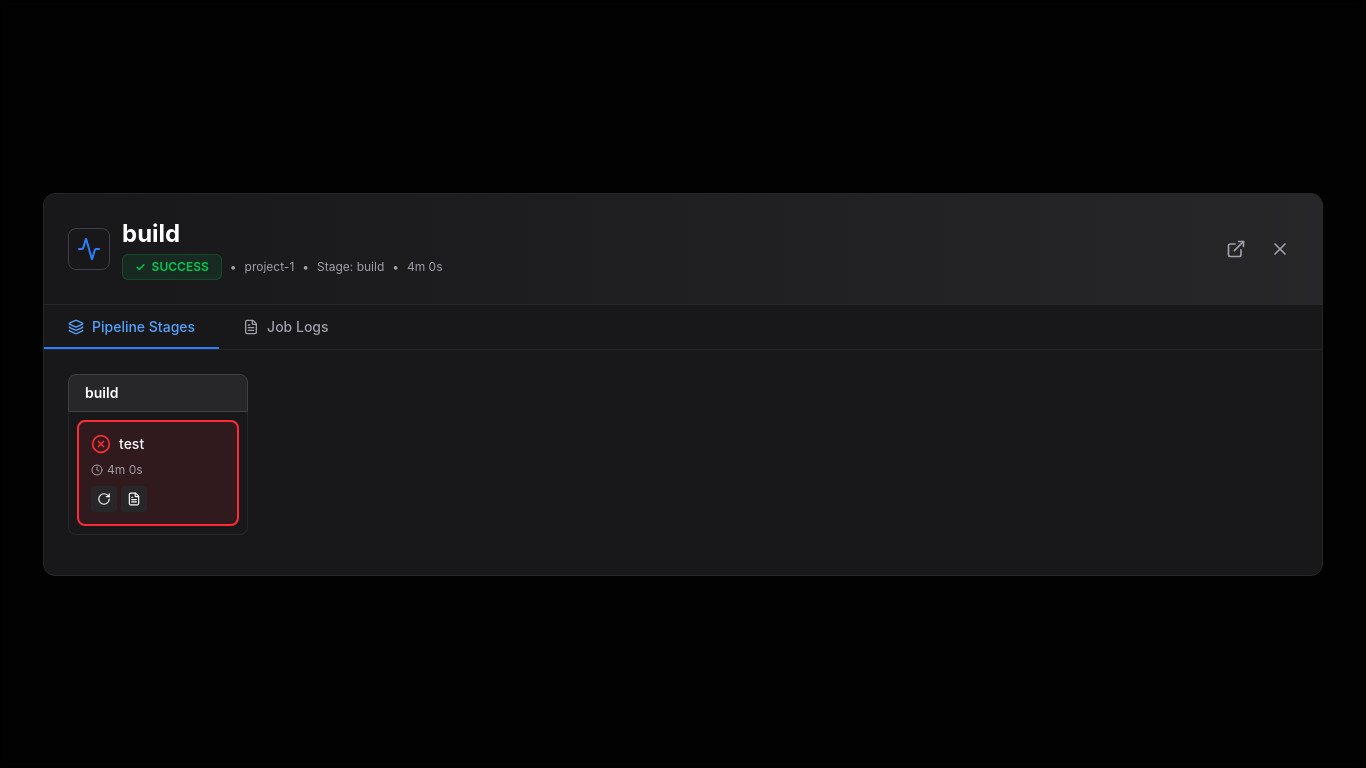
JobDetailsModal › reloads the pipeline stages a second after retrying a job
Click the button titled "Retry job": (104, 498) left=91, top=486, right=117, bottom=512
Wait 1000 ms
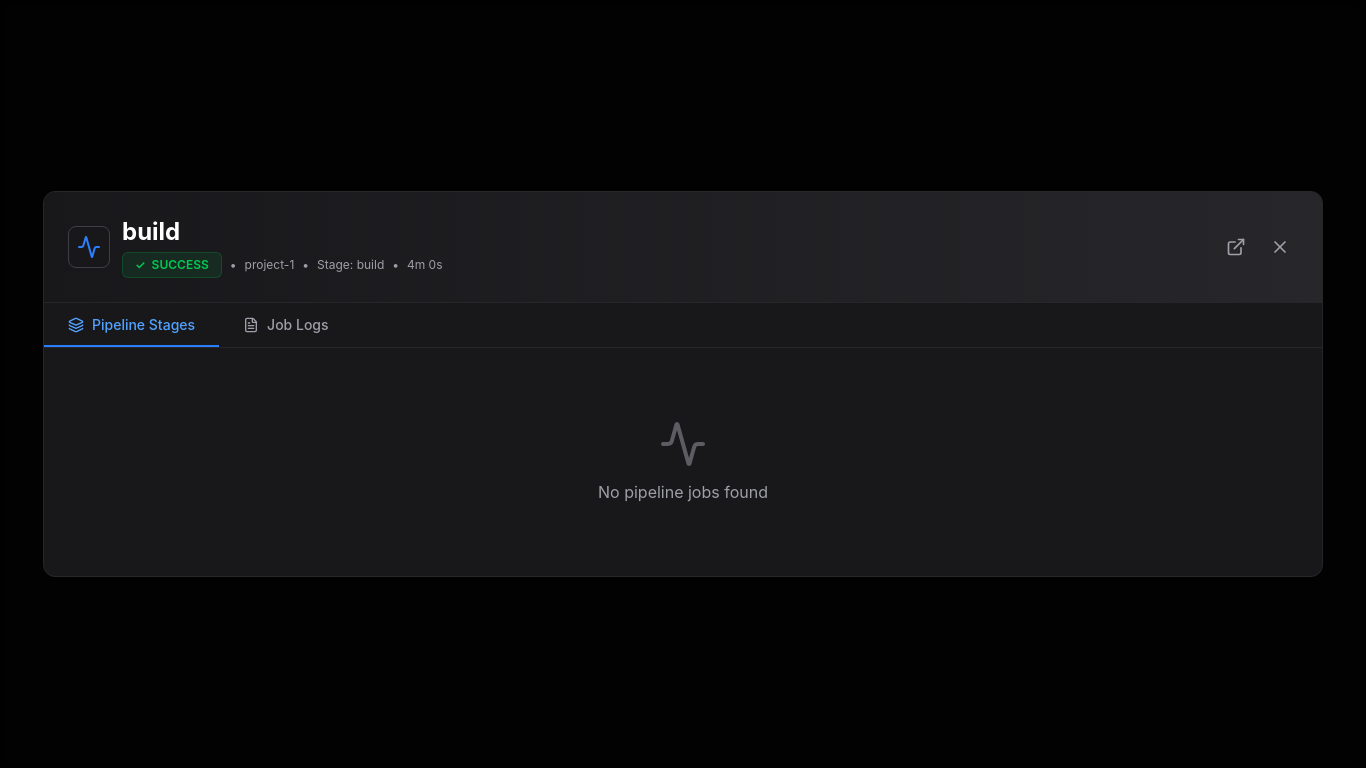
Expected: the text "No pipeline jobs found" is shown, left=598, top=482, right=768, bottom=502
